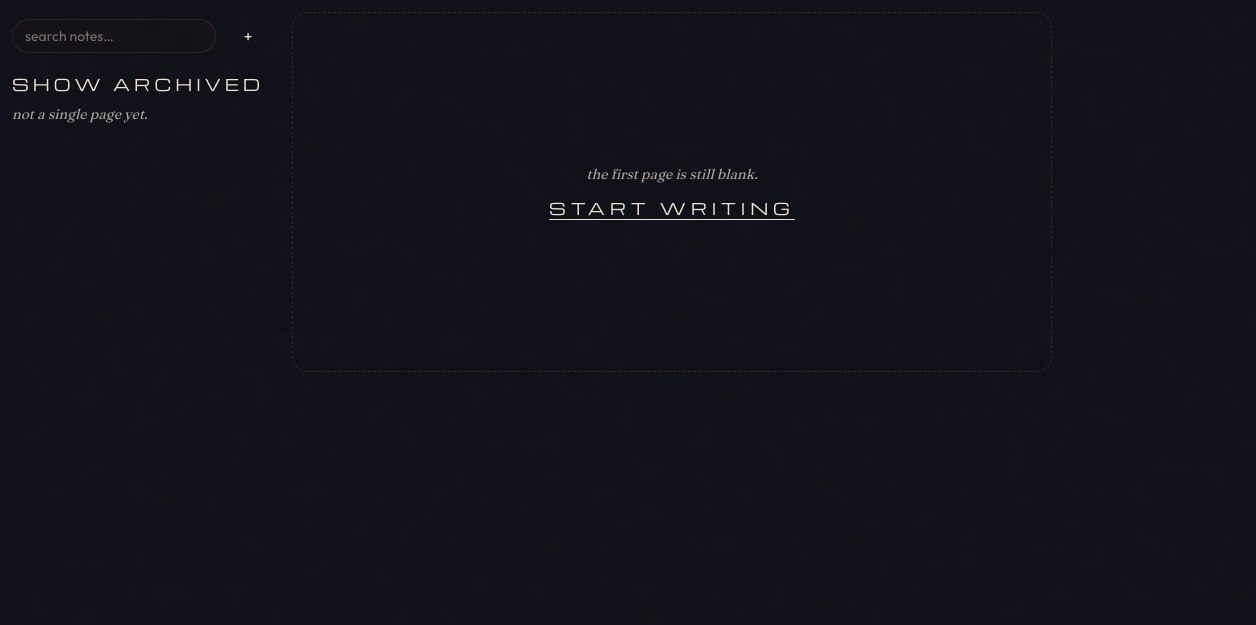
Test: NotebookShell fullscreen › has a fullscreen toggle once a note exists
Click the button "start writing" at {"x": 672, "y": 208}, box left=549, top=196, right=795, bottom=220
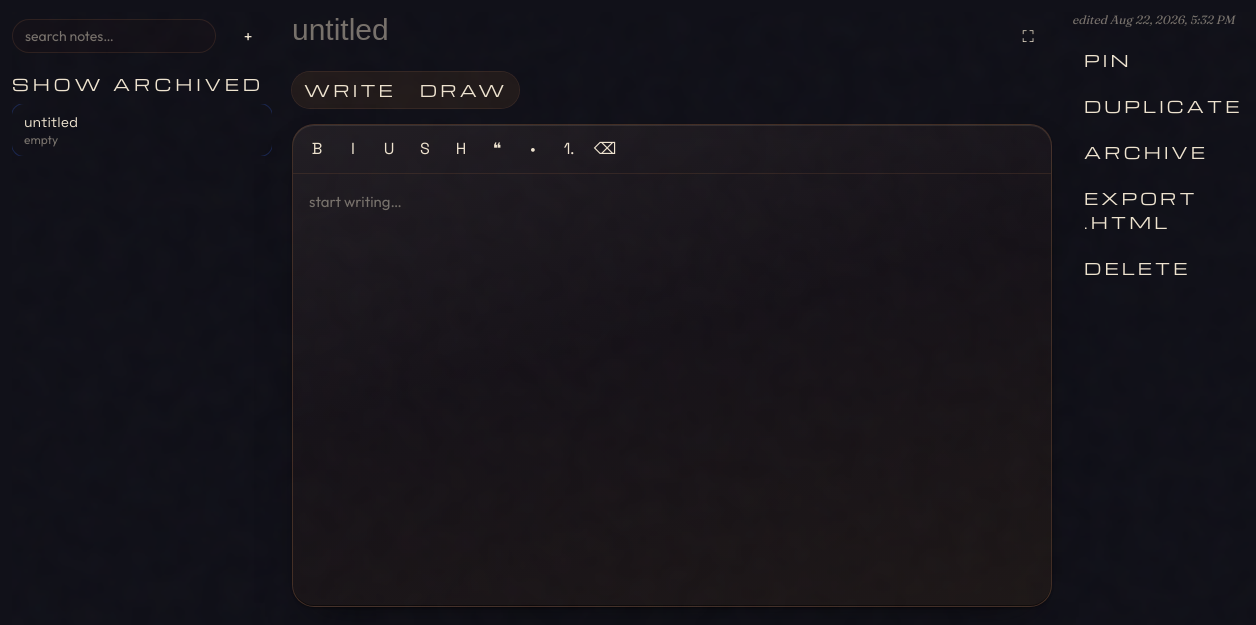
Expected: the field with placeholder "untitled" is shown, left=292, top=12, right=992, bottom=48
Expected: the button named "expand to fullscreen" is shown, left=1004, top=12, right=1052, bottom=60
